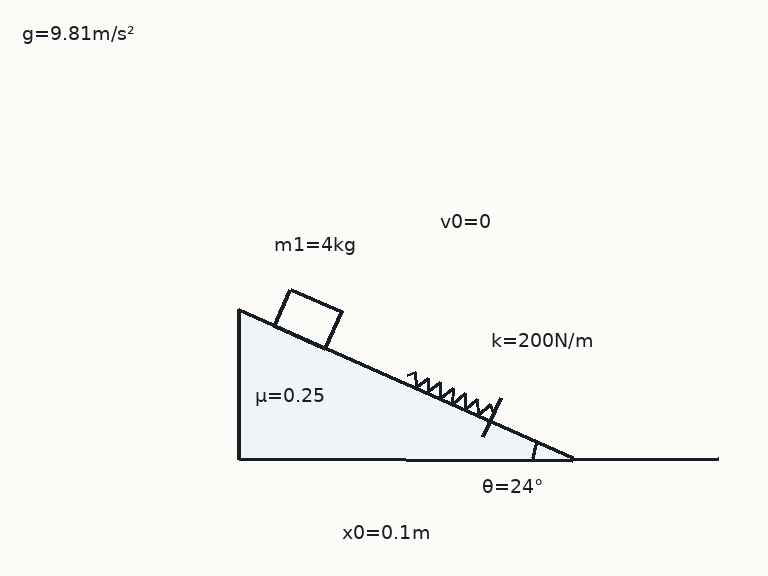block: (272, 286, 343, 350)
ramp: (237, 308, 575, 461)
spring: (404, 369, 495, 416)
